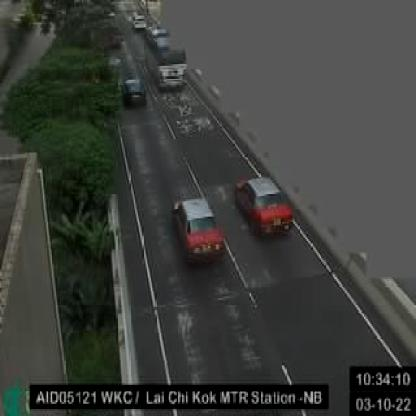Car: (234, 175, 292, 234), (172, 199, 226, 260), (121, 78, 148, 106)
Truck: (146, 26, 188, 87)
